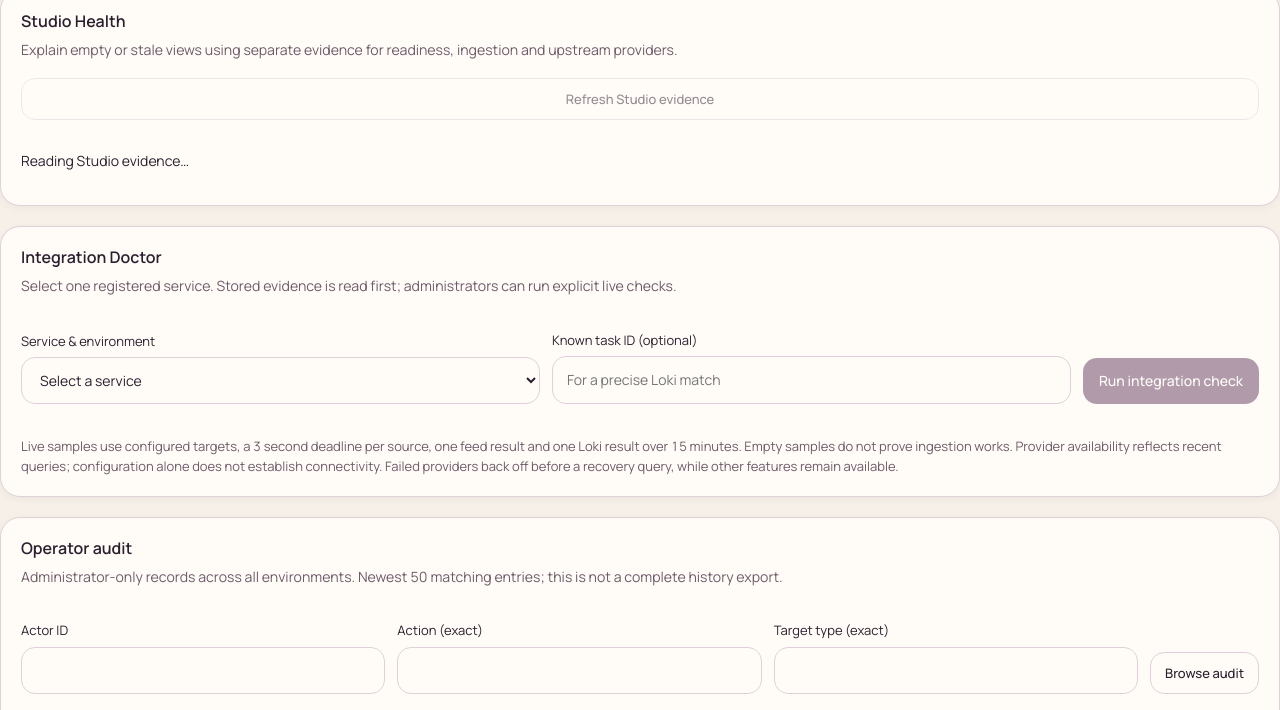
Test: Studio Health and Integration Doctor › browses exact audit filters, renders details and distinguishes unavailable storage from empty results
The image size is (1280, 710).
Type "service.update" into the field labelled "Action (exact)".
click(580, 670); type("service.update")  # box [397,647,762,694]
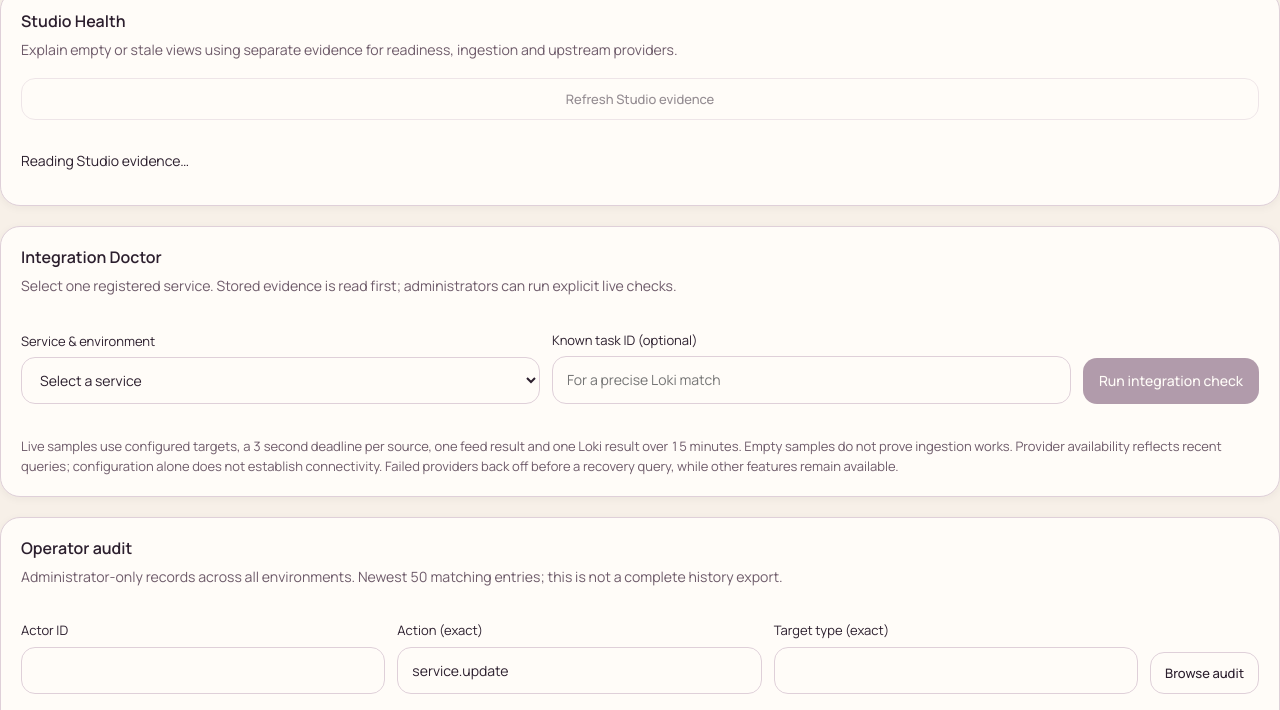
Click the button "Browse audit".
click(1205, 673)  # box [1150,652,1259,694]
(page scrolled)
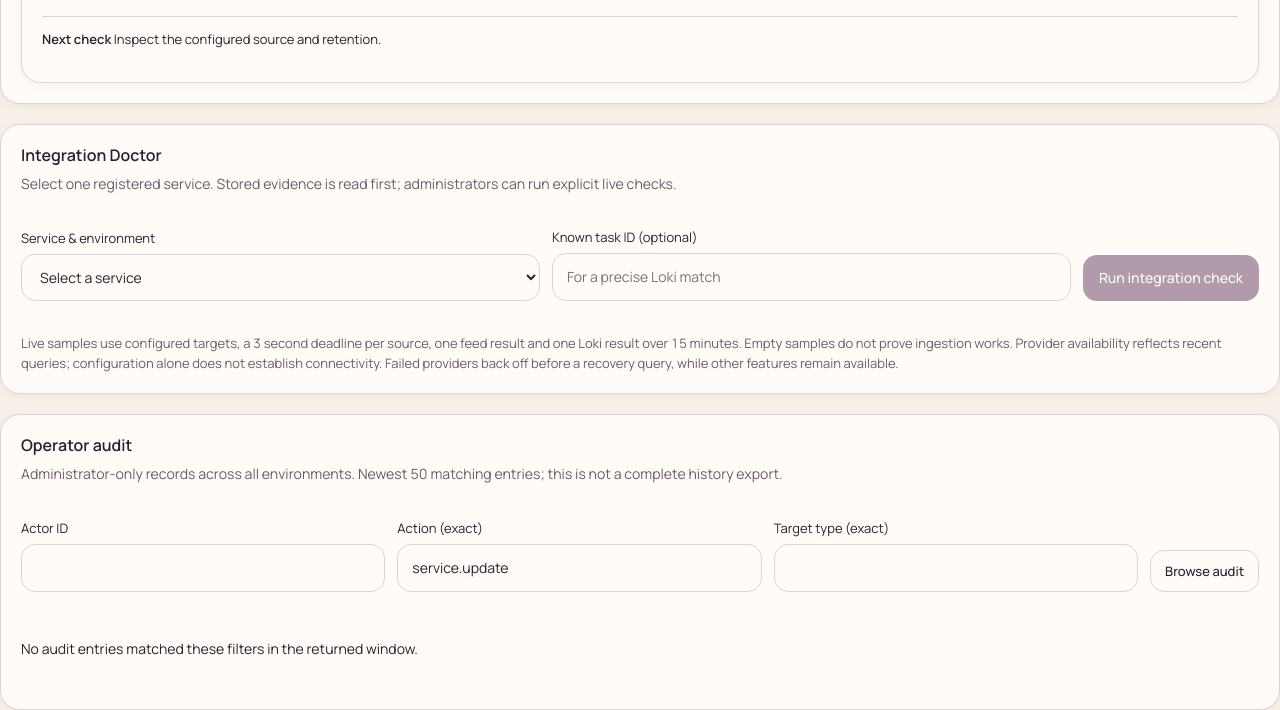
expect the text "No audit entries matched" is shown: met, box [21,639,418,658]
Click the button "Browse audit".
click(1205, 571)  # box [1150,550,1259,592]
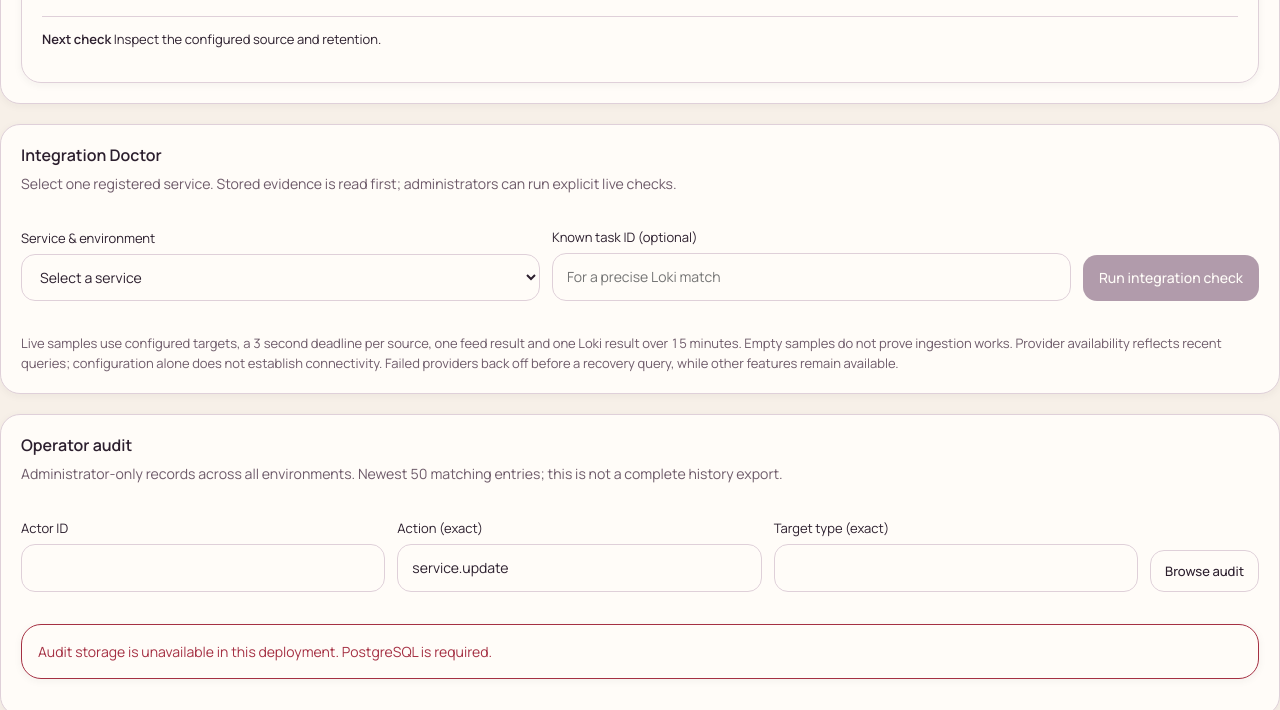
expect the text "PostgreSQL is required" is shown: met, box [38,642,492,661]
expect the text "No audit entries matched" is gone: met
Click the button "Browse audit".
click(1205, 571)  # box [1150,550,1259,592]
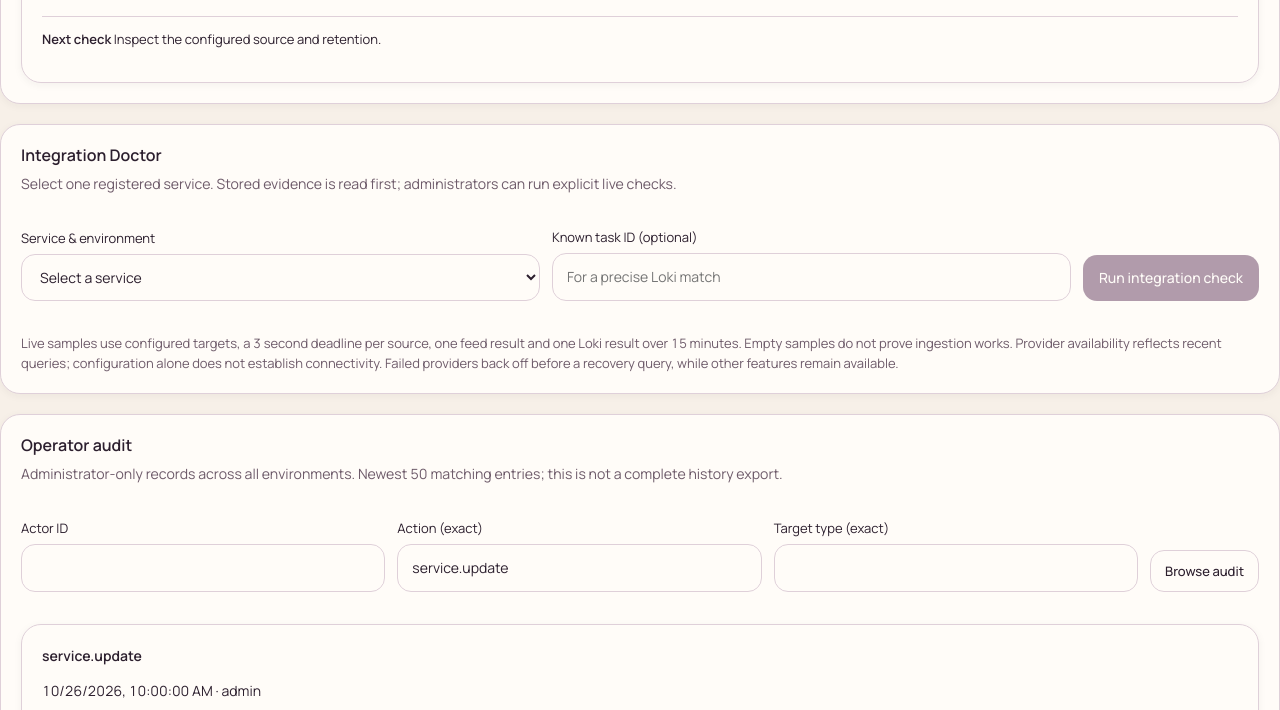
expect the text "service.update" is shown: met, box [42,646,142,665]
